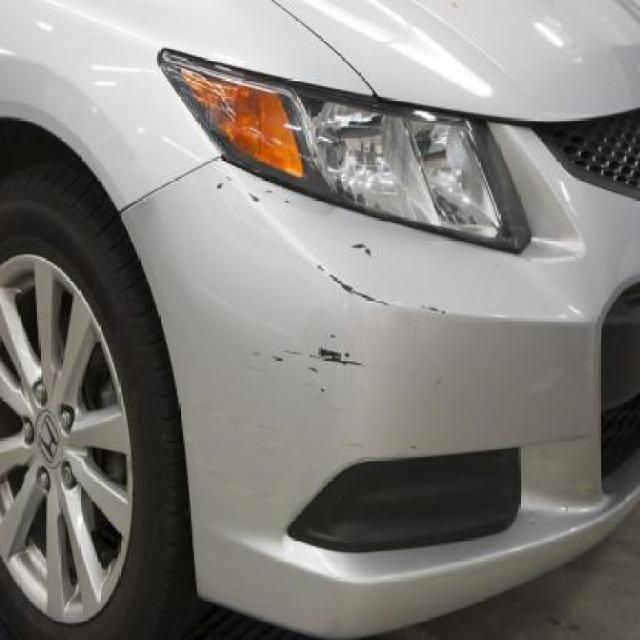scratch: (246, 324, 368, 395), (200, 163, 303, 215), (313, 264, 401, 314), (342, 233, 386, 269), (419, 294, 458, 329)
